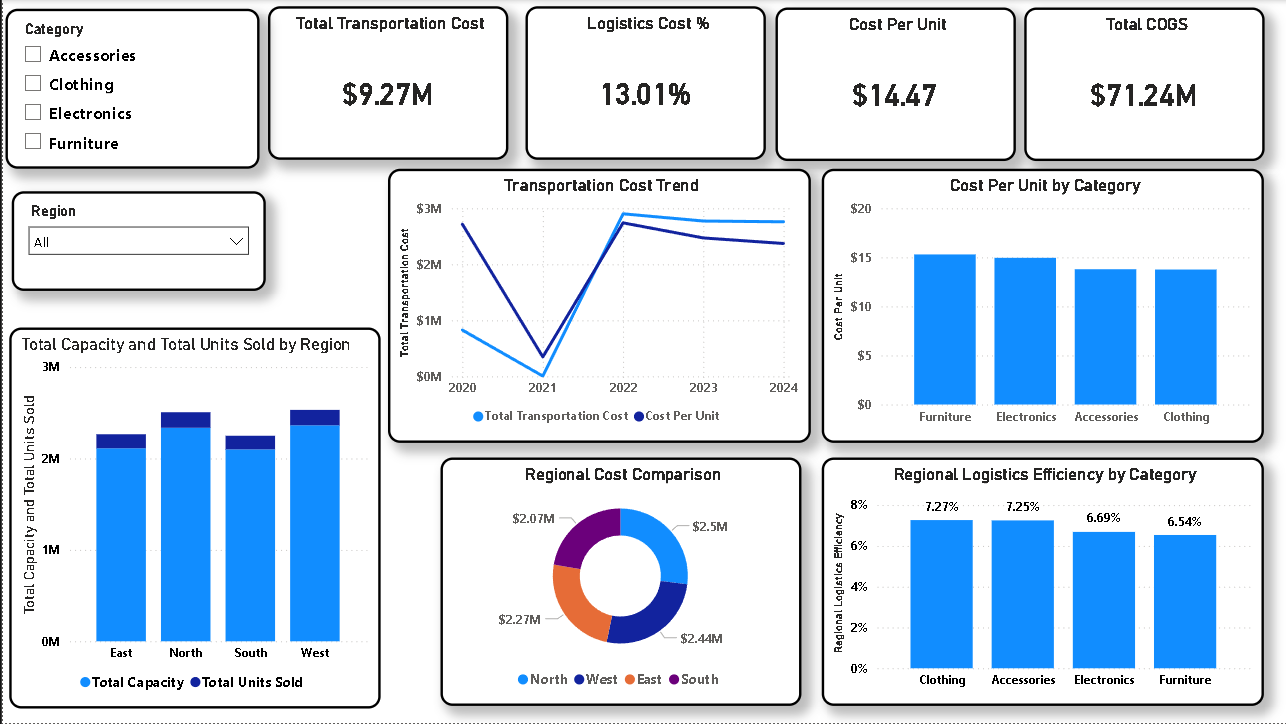

The dashboard page shown, as its layout file describes it:
{"tool":"powerbi","page":{"name":"Logistics Analytics","canvas":[1280,720],"ordinal":2},"visuals":[{"type":"card","title":"Total Transportation Cost","fields":{"Values":["Inventory and SupplyChain Dataset.Total Transportation Cost"]},"box":[263.7,6.2,238.8,153],"z":0},{"type":"card","title":"Logistics Cost %","fields":{"Values":["Inventory and SupplyChain Dataset.Logistics Cost %"]},"box":[520,6.2,238.8,153],"z":1000},{"type":"card","title":"Cost Per Unit","fields":{"Values":["Inventory and SupplyChain Dataset.Cost Per Unit"]},"box":[768.8,7.5,238.8,153],"z":2000},{"type":"card","title":"Total COGS","fields":{"Values":["Inventory and SupplyChain Dataset.Total COGS"]},"box":[1016.3,7.5,238.8,153],"z":3000},{"type":"slicer","fields":{"Values":["Inventory and SupplyChain Dataset.Category"]},"box":[2.5,8.7,252.5,159.2],"z":4000},{"type":"slicer","fields":{"Values":["Inventory and SupplyChain Dataset.Region"]},"box":[8.7,190.3,252.5,99.5],"z":5000},{"type":"lineChart","title":"Transportation Cost Trend","fields":{"Category":["Inventory and SupplyChain Dataset.Date.Variation.Date Hierarchy.Year","Inventory and SupplyChain Dataset.Date.Variation.Date Hierarchy.Quarter","Inventory and SupplyChain Dataset.Date.Variation.Date Hierarchy.Month","Inventory and SupplyChain Dataset.Date.Variation.Date Hierarchy.Day"],"Y":["Inventory and SupplyChain Dataset.Total Transportation Cost"],"Y2":["Inventory and SupplyChain Dataset.Cost Per Unit"]},"box":[383.1,167.9,420.5,272.4],"z":6000},{"type":"clusteredColumnChart","fields":{"Y":["Inventory and SupplyChain Dataset.Cost Per Unit"],"Category":["Inventory and SupplyChain Dataset.Category"]},"box":[814.8,167.9,440.4,272.4],"z":7000},{"type":"donutChart","title":"Regional Cost Comparison","fields":{"Category":["Inventory and SupplyChain Dataset.Region"],"Y":["Inventory and SupplyChain Dataset.Total Transportation Cost"]},"box":[435.4,455.3,359.5,247.5],"z":8000},{"type":"columnChart","fields":{"Y":["Inventory and SupplyChain Dataset.Regional Logistics Efficiency"],"Category":["Inventory and SupplyChain Dataset.Category"]},"box":[814.8,455.3,440.4,247.5],"z":9000},{"type":"lineStackedColumnComboChart","fields":{"Y":["Inventory and SupplyChain Dataset.Total Capacity","Inventory and SupplyChain Dataset.Total Units Sold"],"Category":["Inventory and SupplyChain Dataset.Region"]},"box":[6.2,325.9,369.5,379.4],"z":10000}]}

Visuals, with their boxes in screenshot pixels (x1, y1, x2, y2), scaled from the page's 1280x720 canvas onto the 1286x724 screenshot:
"Total Transportation Cost" card: 265:6:505:160
"Logistics Cost %" card: 522:6:762:160
"Cost Per Unit" card: 772:8:1012:161
"Total COGS" card: 1021:8:1261:161
slicer - Inventory and SupplyChain Dataset.Category: 3:9:256:169
slicer - Inventory and SupplyChain Dataset.Region: 9:191:262:291
"Transportation Cost Trend" lineChart: 385:169:807:443
clusteredColumnChart - Inventory and SupplyChain Dataset.Cost Per Unit x Inventory and SupplyChain Dataset.Category: 819:169:1261:443
"Regional Cost Comparison" donutChart: 437:458:799:707
columnChart - Inventory and SupplyChain Dataset.Regional Logistics Efficiency x Inventory and SupplyChain Dataset.Category: 819:458:1261:707
lineStackedColumnComboChart - Inventory and SupplyChain Dataset.Total Capacity x Inventory and SupplyChain Dataset.Total Units Sold: 6:328:377:709
